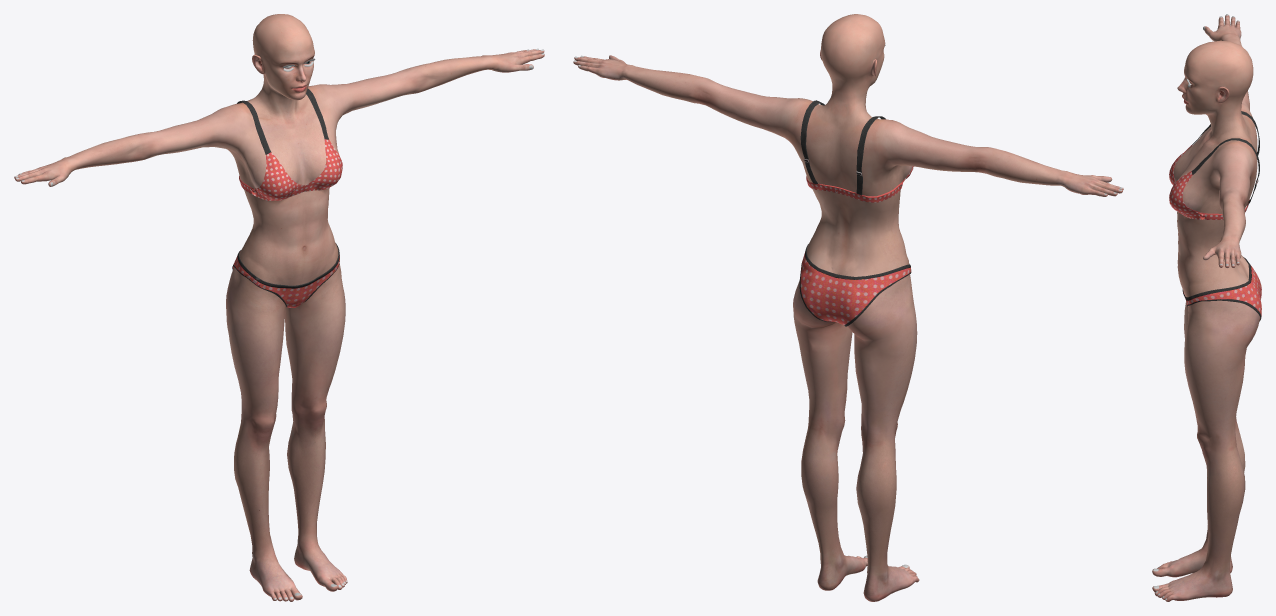
3 renders of one model, left to right at view 1: azimuth 30°, elevation 25°; view 2: azimuth 150°, elevation 25°; view 3: azimuth 270°, elevation 25°, orthographic. The views are drawn at different scales.
Visible parts, largest first — view 1: CC_Base_Body, Bra, Underwear___Bottoms; view 2: CC_Base_Body, Underwear___Bottoms, Bra; view 3: CC_Base_Body, Bra, Underwear___Bottoms.
Part boxes in pixels (x1,y1,x2,y2): CC_Base_Body: (14, 14, 544, 601); Bra: (237, 88, 342, 200); Underwear___Bottoms: (232, 243, 339, 307); CC_Base_Body: (573, 14, 1123, 601); Underwear___Bottoms: (799, 244, 911, 326); Bra: (800, 100, 913, 202); CC_Base_Body: (1152, 14, 1260, 601); Bra: (1169, 111, 1259, 219); Underwear___Bottoms: (1182, 257, 1261, 321).
Size of the model in its own units: 180 by 180 by 33.09.
